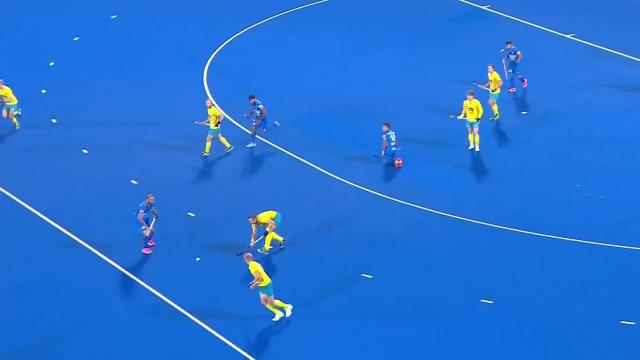ball: (194, 256, 202, 262)
